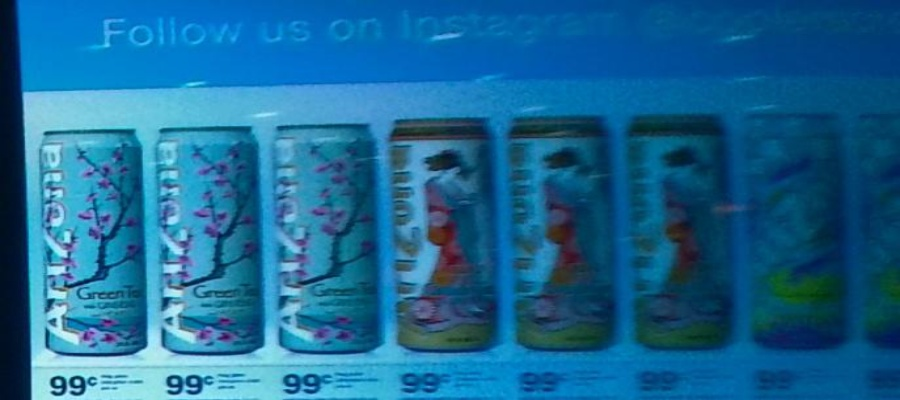bottle: (738, 106, 855, 363), (269, 117, 389, 363), (621, 108, 736, 361), (390, 113, 508, 359), (34, 122, 151, 367), (507, 112, 620, 361), (155, 118, 263, 365)
